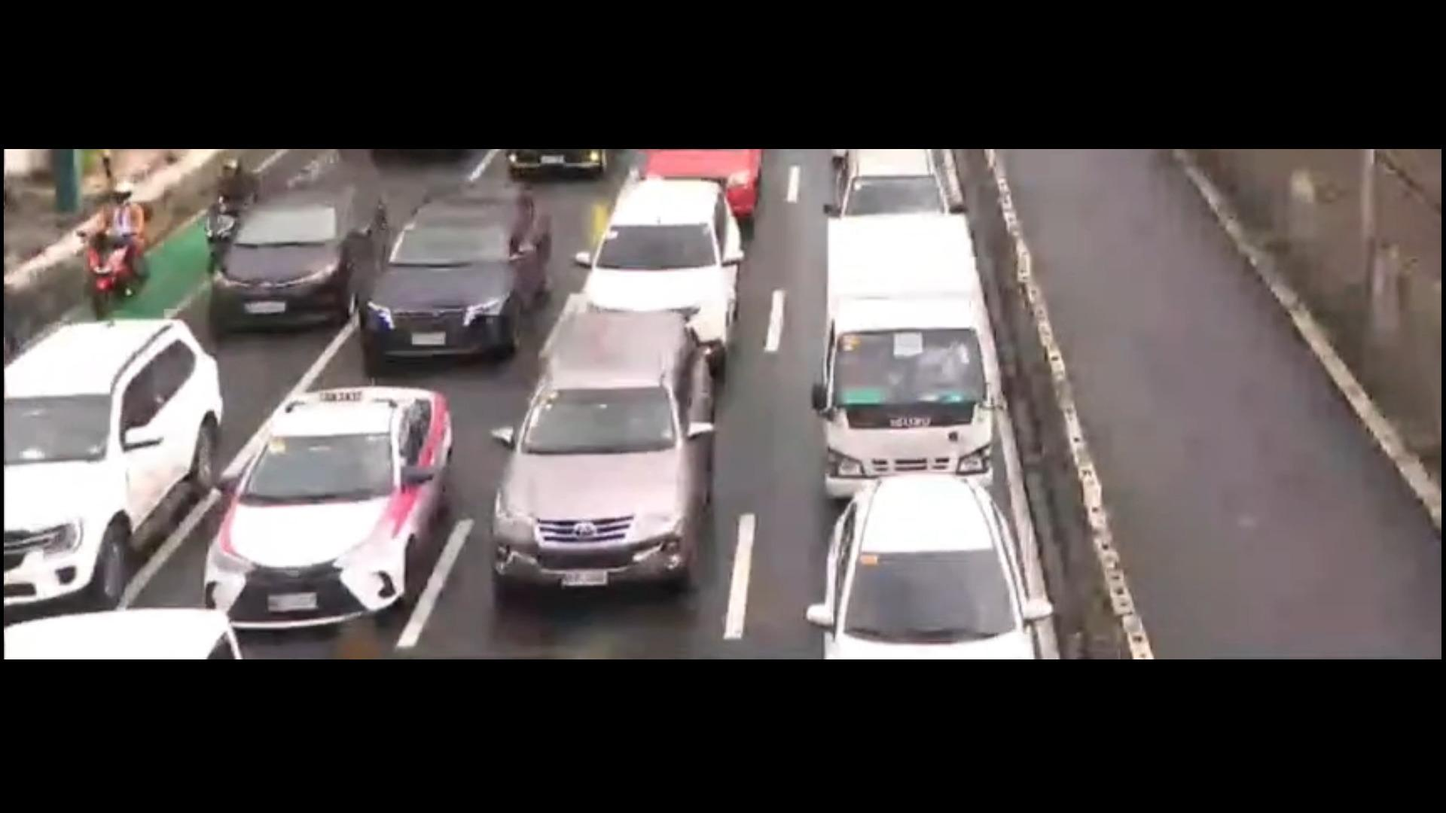Motorcycle: (64, 174, 164, 310), (201, 142, 253, 271)
SUV: (475, 302, 746, 614), (0, 301, 236, 619), (757, 478, 1082, 659), (353, 177, 569, 373), (562, 170, 776, 354)
Sedan: (184, 369, 482, 638), (201, 172, 383, 334)
Truck: (805, 211, 1017, 510)
